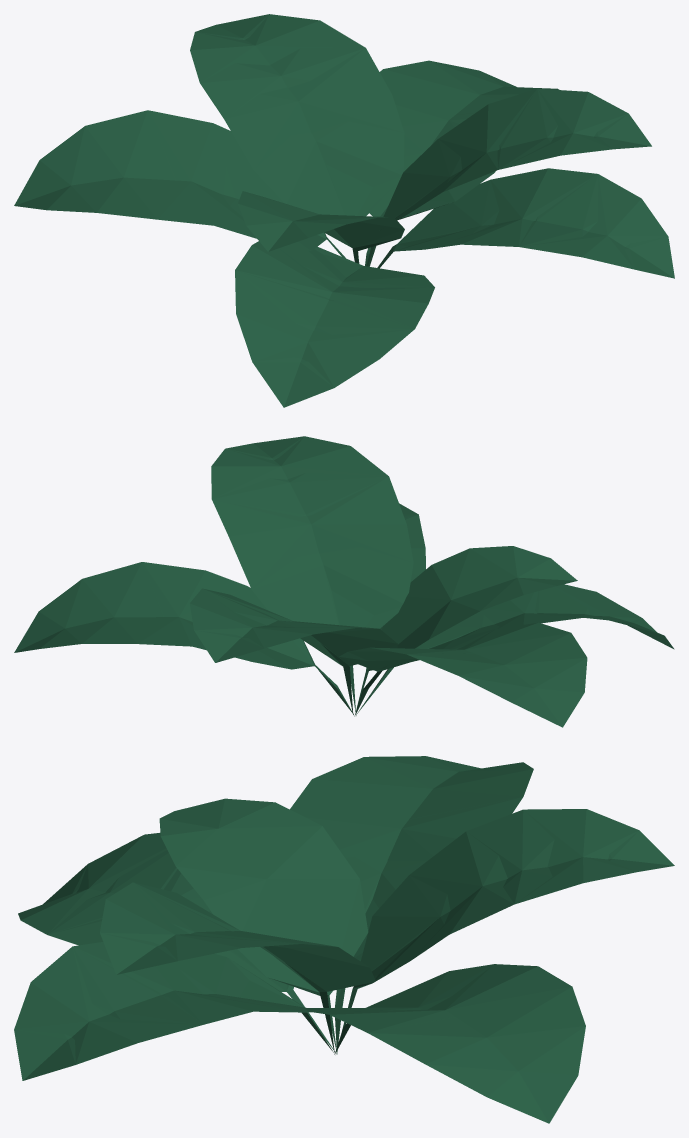
Rendered from Plant01.fbx.
3 renders of one model, top to bottom at view 1: azimuth 30°, elevation 25°; view 2: azimuth 150°, elevation 25°; view 3: azimuth 270°, elevation 25°, orthographic. The views are drawn at different scales.
Parts seen in each view (by area): view 1: Plant_01; view 2: Plant_01; view 3: Plant_01.
Part boxes in pixels (x1,y1,x2,y2): Plant_01: (14,14,674,407); Plant_01: (14,436,674,727); Plant_01: (14,756,674,1123).
Size of the model in its own units: 116 by 37.57 by 104.
